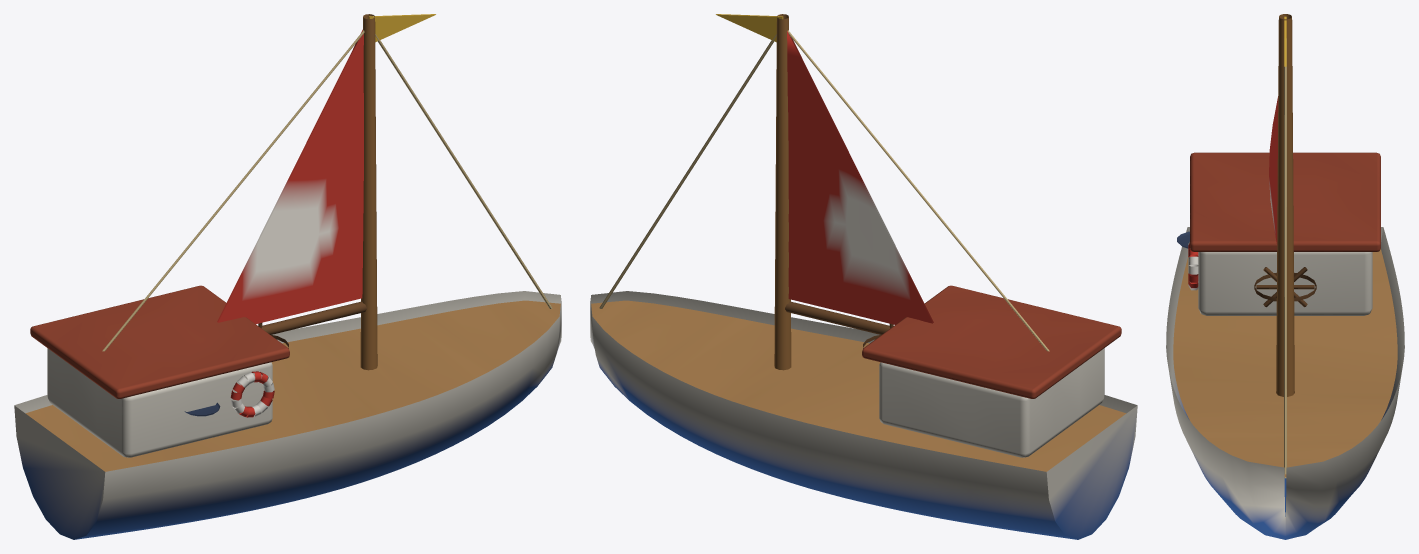
File: ship_scampi.glb
The picture shows the model from 3 angles, left to right: view 1: azimuth 30°, elevation 25°; view 2: azimuth 150°, elevation 25°; view 3: azimuth 270°, elevation 25°; orthographic projection. The views are drawn at different scales.
Visible parts, largest first — view 1: ship_scampi_main, ship_scampi_sail; view 2: ship_scampi_main, ship_scampi_sail; view 3: ship_scampi_main, ship_scampi_sail.
Part boxes in pixels (x1,y1,x2,y2): ship_scampi_main: [14, 14, 561, 539]; ship_scampi_sail: [217, 29, 363, 323]; ship_scampi_main: [590, 14, 1137, 539]; ship_scampi_sail: [787, 31, 933, 324]; ship_scampi_main: [1166, 14, 1404, 539]; ship_scampi_sail: [1269, 96, 1278, 245].
Size of the model in its own units: 3 by 2.6 by 1.15.
